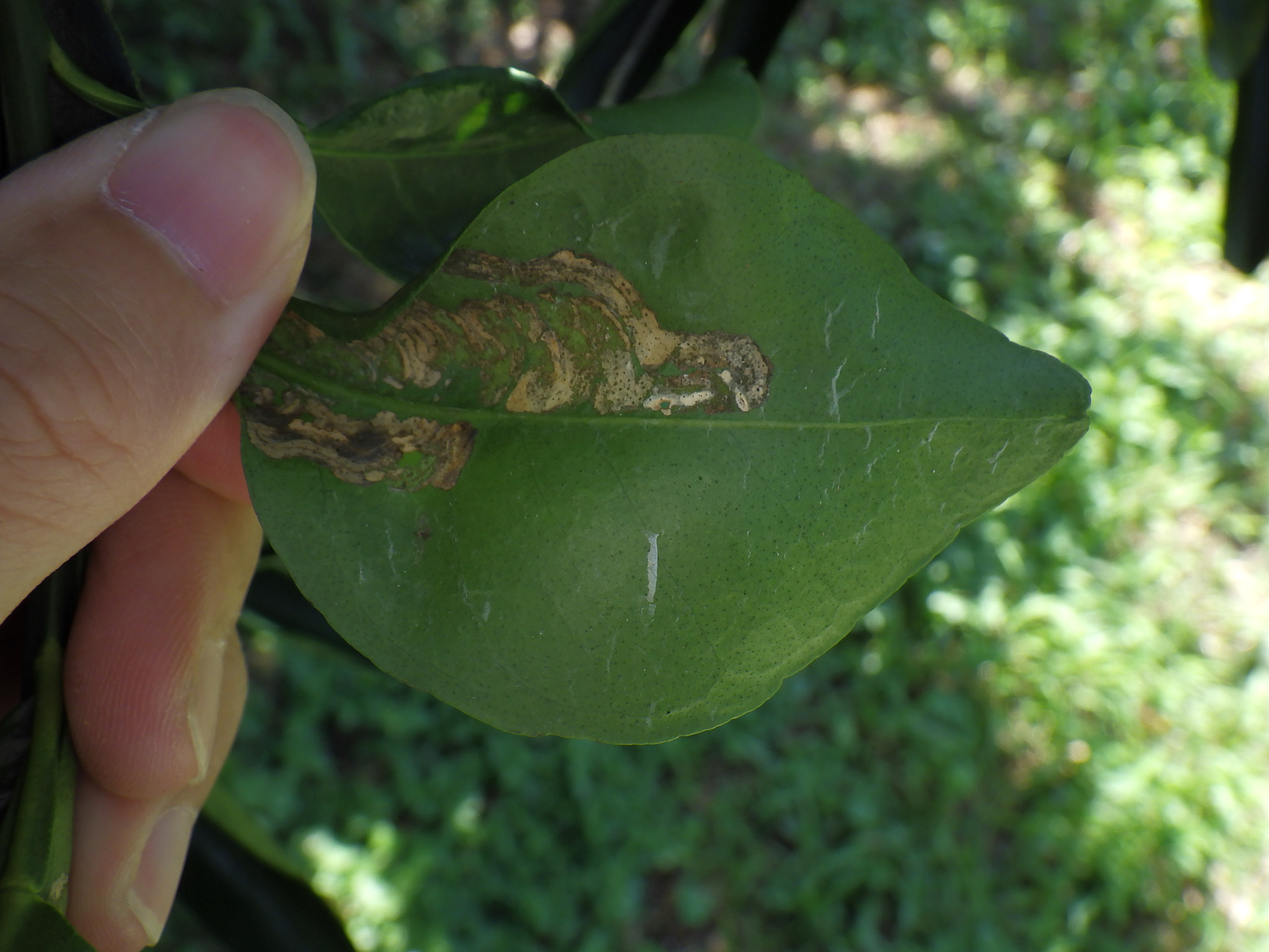Citrus_Leaf_Miner: (242, 249, 771, 491)
